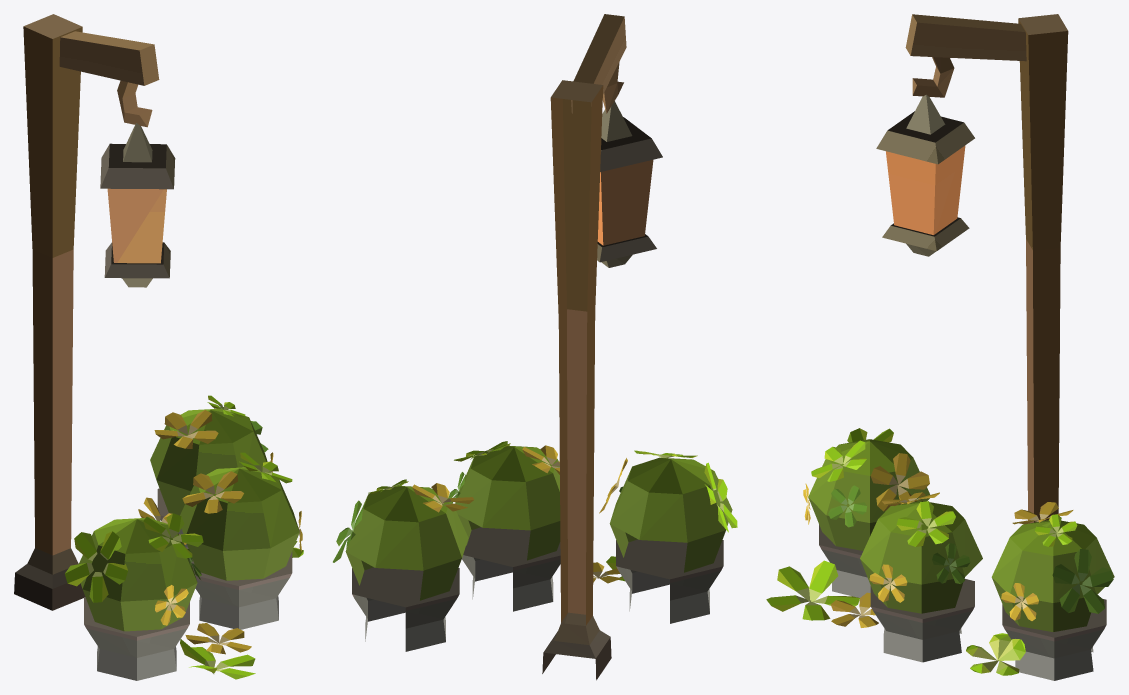
The model's file is city-decor00.fbx.
3 renders of one model, left to right at view 1: azimuth 30°, elevation 25°; view 2: azimuth 150°, elevation 25°; view 3: azimuth 270°, elevation 25°, orthographic. The views are drawn at different scales.
Parts seen in each view (by area): view 1: city-decor00; view 2: city-decor00; view 3: city-decor00.
Boxes of the visible parts, x1,y1,x2,y2 form: city-decor00: (14, 14, 303, 680); city-decor00: (333, 14, 737, 680); city-decor00: (766, 14, 1114, 680).
Size of the model in its own units: 0.686 by 1.32 by 0.7207.
Materials: 1 (1 with a texture image).
